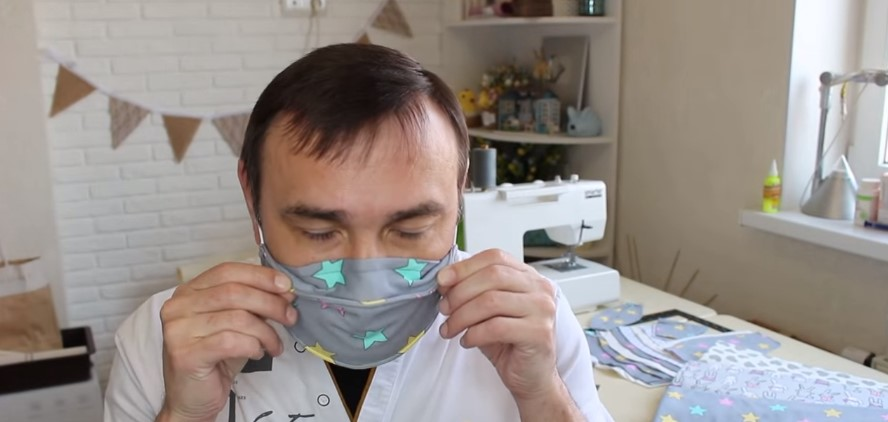face_with_mask: (236, 45, 477, 372)
